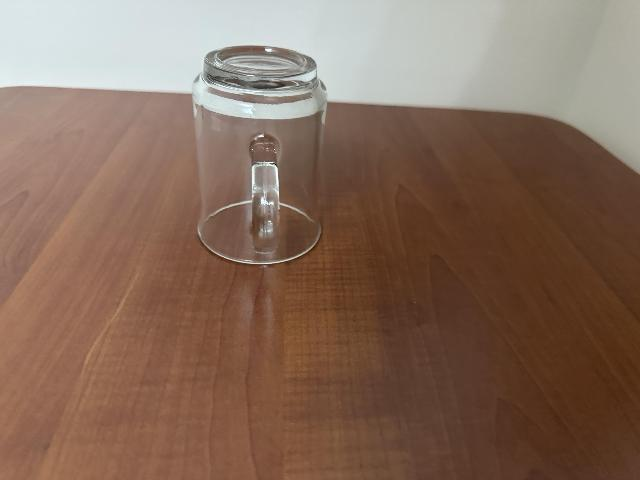Cam: (189, 44, 330, 266)
